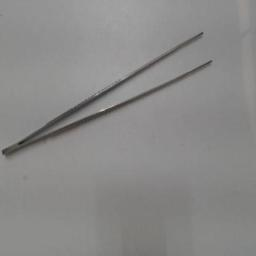DeBakey Dissector: (2, 16, 222, 162)
